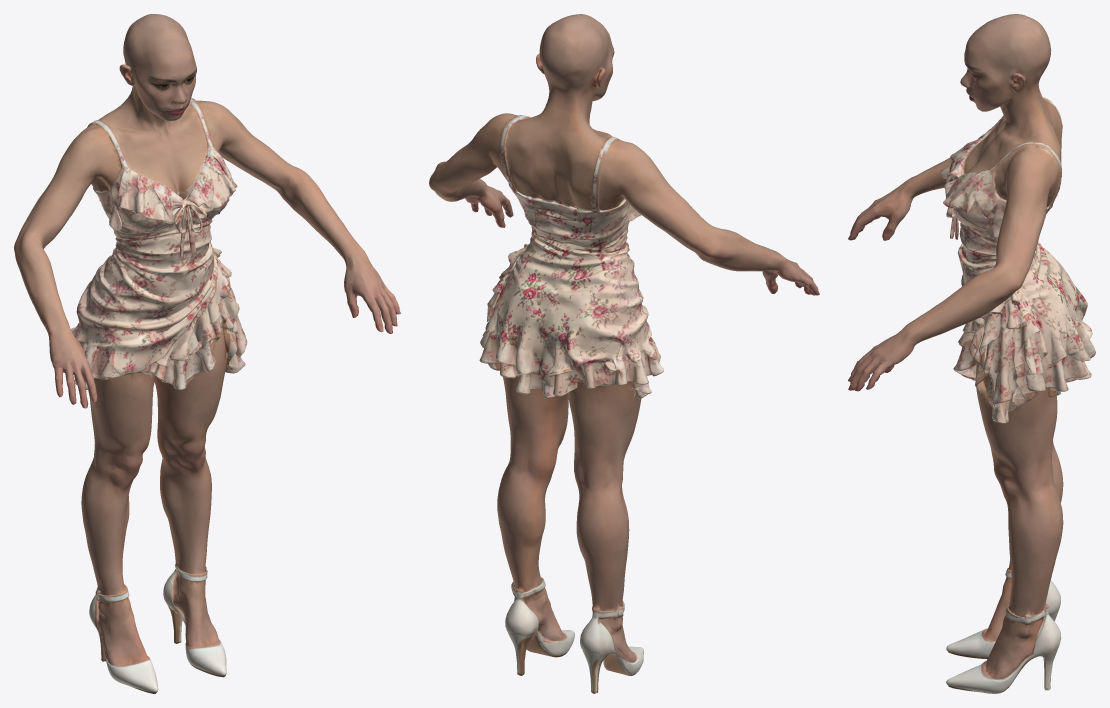
File: floral dress 1.glb
3 renders of one model, left to right at view 1: azimuth 30°, elevation 25°; view 2: azimuth 150°, elevation 25°; view 3: azimuth 270°, elevation 25°, orthographic.
Parts seen in each view (by area): view 1: tripo_node_5b882b17-f1a8-4898-914a-a585262abef1; view 2: tripo_node_5b882b17-f1a8-4898-914a-a585262abef1; view 3: tripo_node_5b882b17-f1a8-4898-914a-a585262abef1.
Boxes of the visible parts, x1,y1,x2,y2 form: tripo_node_5b882b17-f1a8-4898-914a-a585262abef1: (14,14,400,693); tripo_node_5b882b17-f1a8-4898-914a-a585262abef1: (429,14,819,693); tripo_node_5b882b17-f1a8-4898-914a-a585262abef1: (848,14,1095,693).
Bounding box in the file's own units: 0.5425 × 0.9795 × 0.3362.
Materials: 1 (1 with a texture image).
